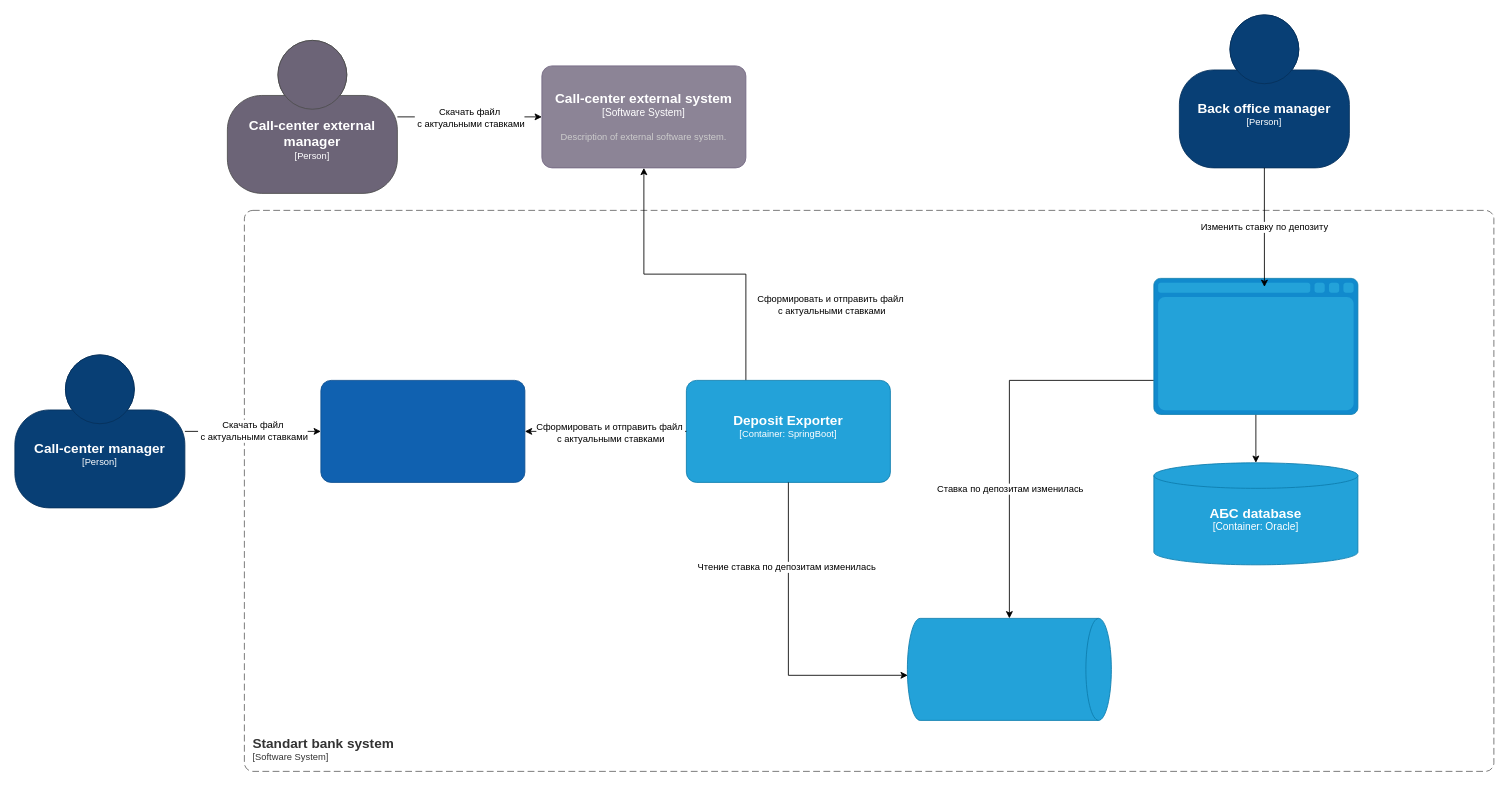
This 1509x786 diagram has some shape labels left out. The centre of each missing label's shape, as x and y in pixels:
AБС [Container: Delphi] Десктопный клиент: [1255,346]
Call-center system [Software System]: [422,431]
Message broker [Container: Apache Kafka]: [1009,669]
